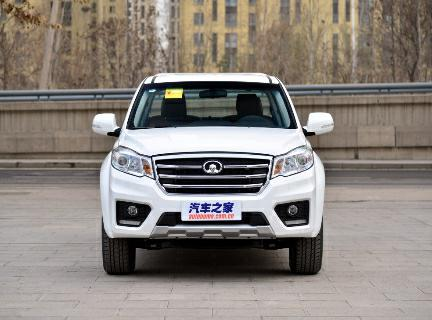长城-风骏6: (91, 69, 338, 282)
